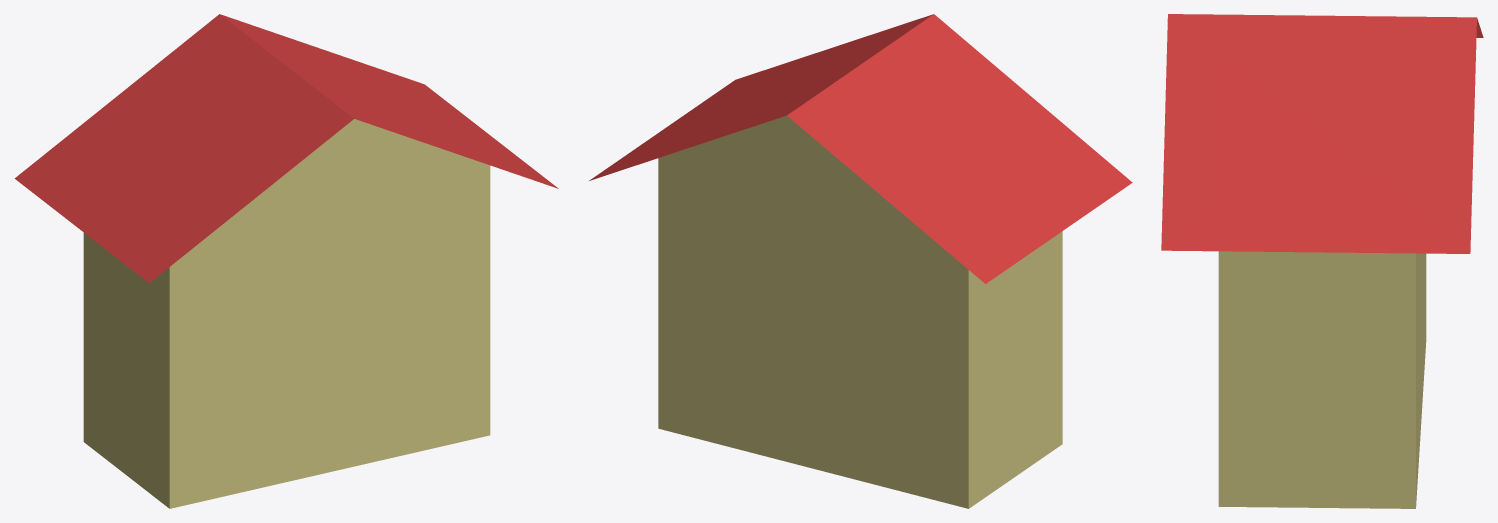
3 renders of one model, left to right at view 1: azimuth 30°, elevation 25°; view 2: azimuth 150°, elevation 25°; view 3: azimuth 270°, elevation 25°, orthographic. The views are drawn at different scales.
Visible parts, largest first — view 1: group_5, group_3, group_4; view 2: group_5, group_3, group_4; view 3: group_3, group_5, group_4.
Part boxes in pixels (box(x1,y1,x2,y2)): group_5: box(83, 119, 490, 508); group_3: box(15, 14, 489, 283); group_4: box(15, 14, 558, 198); group_5: box(658, 115, 1062, 508); group_3: box(589, 14, 1132, 283); group_4: box(590, 14, 1020, 283); group_3: box(1161, 14, 1483, 253); group_5: box(1218, 251, 1426, 508); group_4: box(1161, 14, 1477, 253).
Size of the model in its own units: 13.93 by 8.65 by 12.08.
